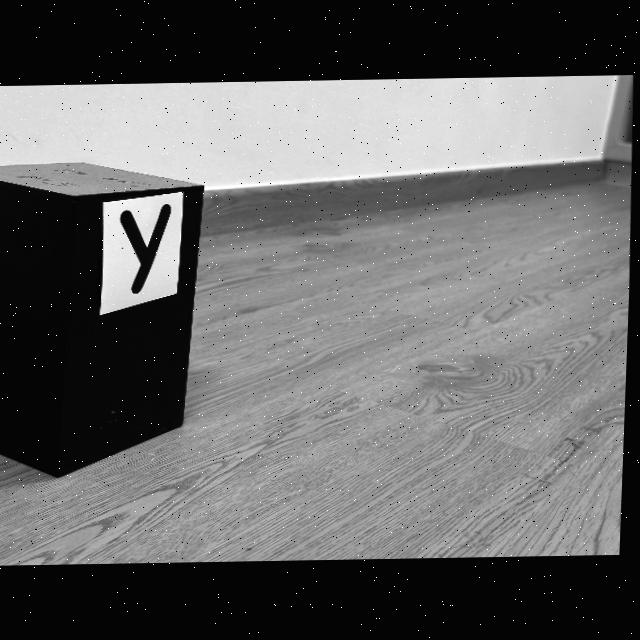Y: (122, 204, 172, 293)
